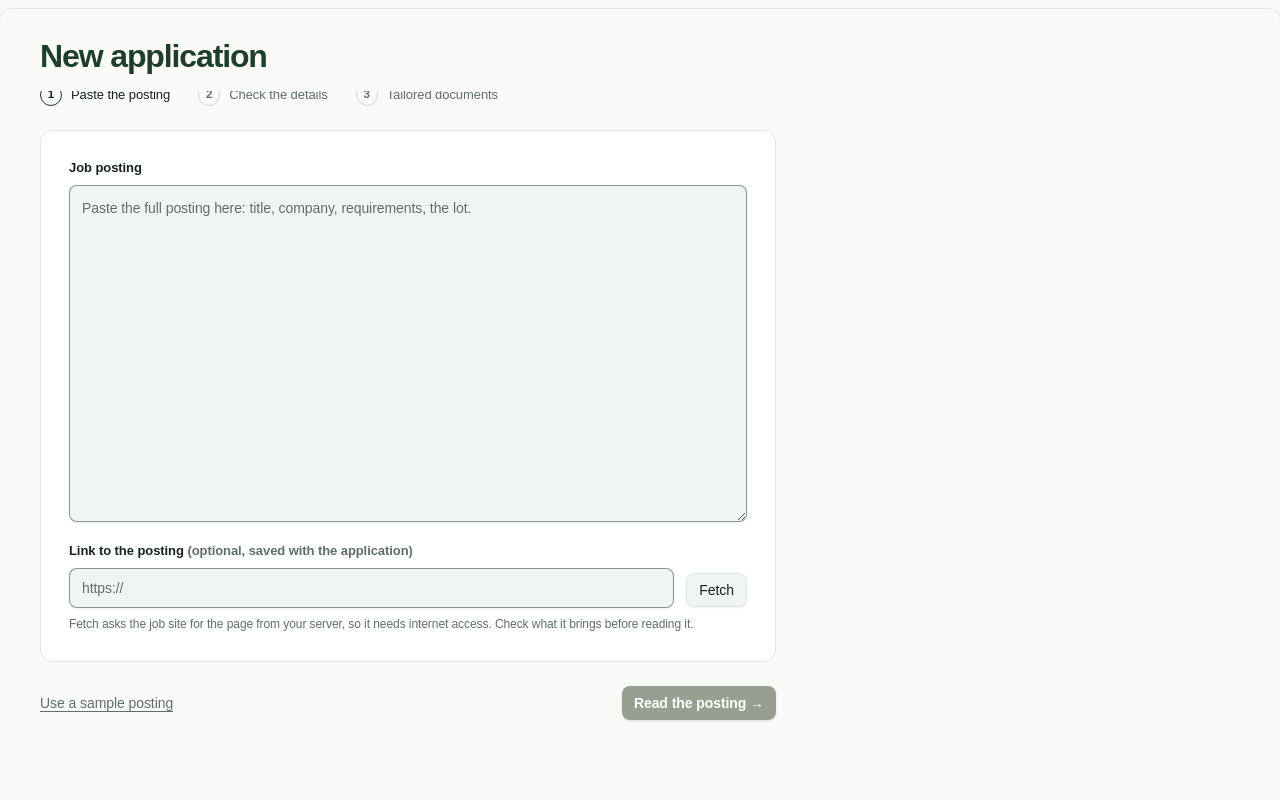
Test: the paste step (E7-1) › offers the sample only when there is one
Later steps or results of the test are not shown.
(page scrolled)
Click the button "Use a sample posting" at (107, 703), box [40, 686, 173, 720]
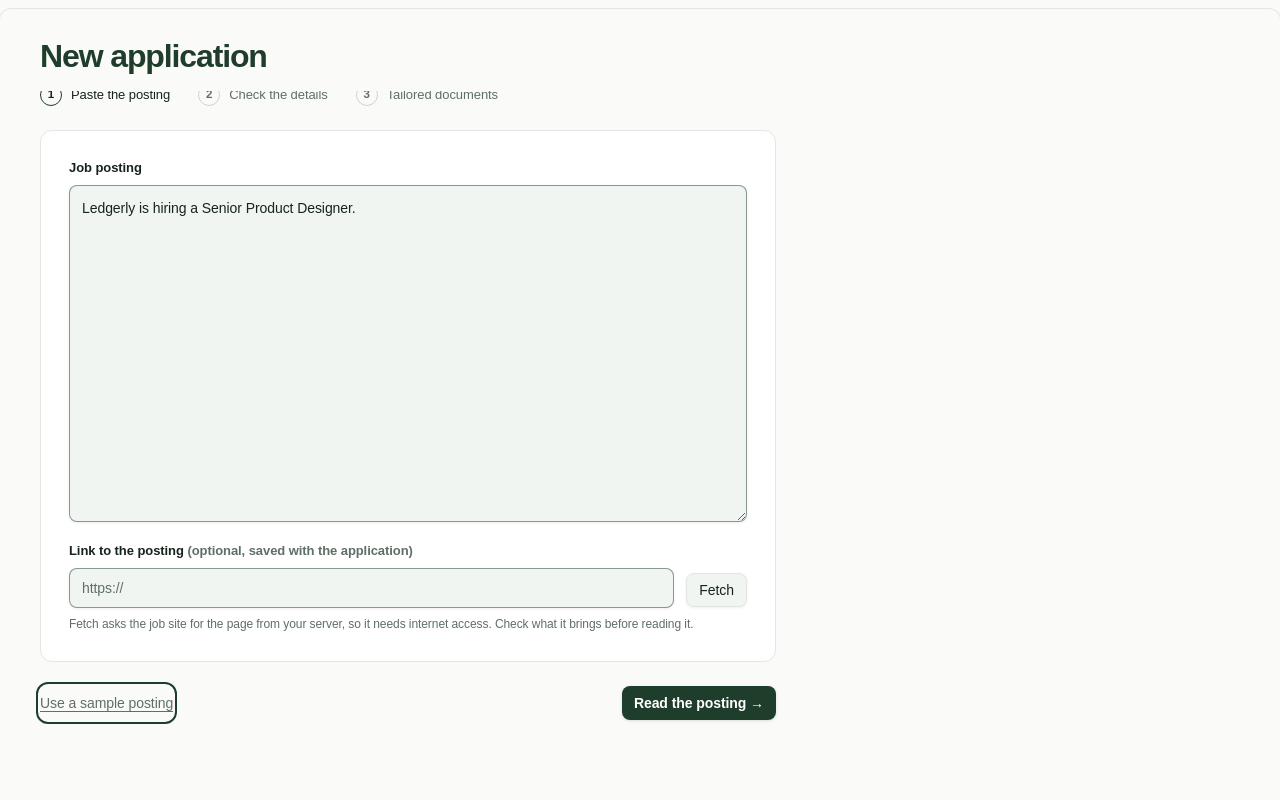
Check: the text box labelled "Job posting" holds "Ledgerly is hiring a Senior Product Designer.", box [69, 185, 747, 522]
